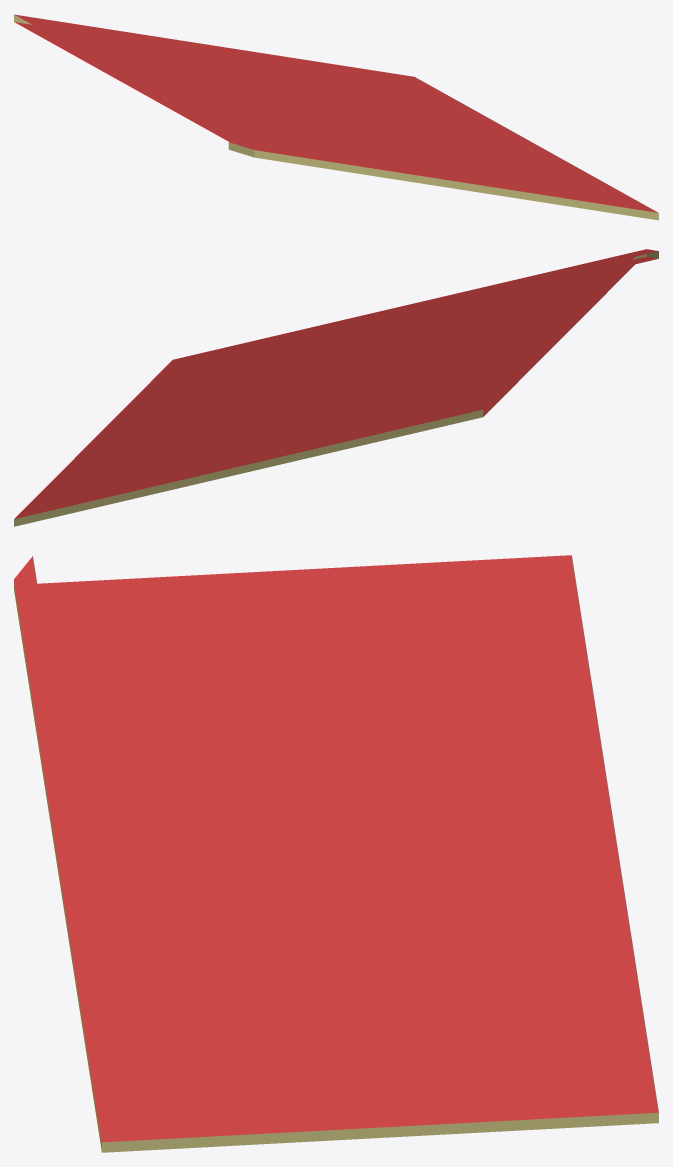
The picture shows the model from 3 angles, top to bottom: view 1: azimuth 30°, elevation 25°; view 2: azimuth 150°, elevation 25°; view 3: azimuth 270°, elevation 25°; orthographic projection. The views are drawn at different scales.
Size of the model in its own units: 6.62 by 5.6 by 2.76.
